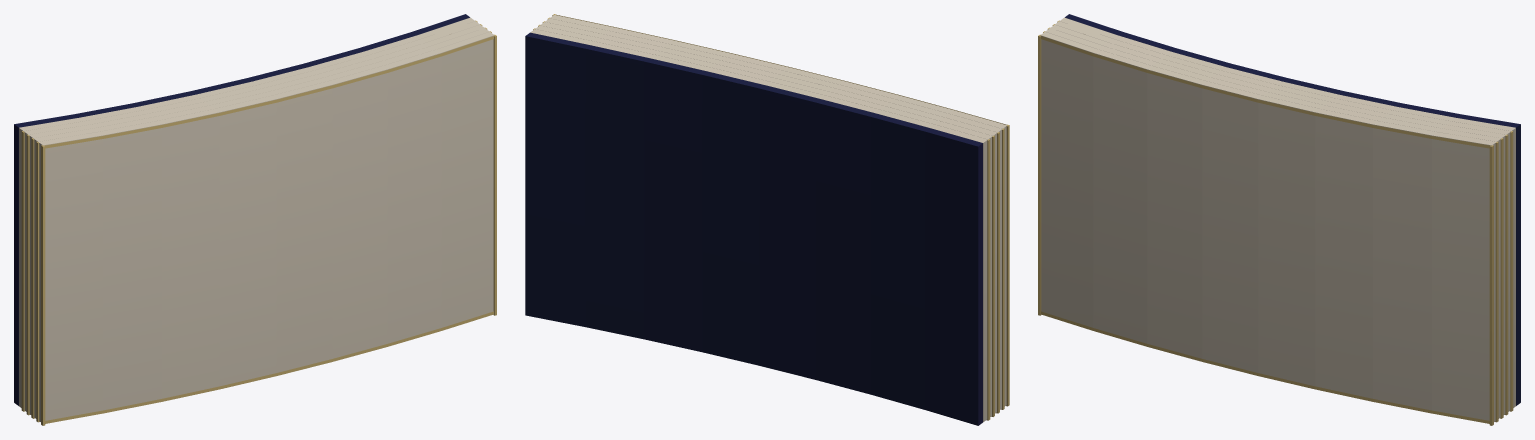
The model's file is page-wall.glb.
3 views of the same model, side by side, from view 1: azimuth 30°, elevation 25°; view 2: azimuth 150°, elevation 25°; view 3: azimuth 330°, elevation 25° (orthographic).
Visible parts, largest first — view 1: lid_mesh; view 2: lid_mesh; view 3: lid_mesh.
Part boxes in pixels (<box>): lid_mesh: <box>14,14,496,425</box>; lid_mesh: <box>525,14,1009,425</box>; lid_mesh: <box>1038,14,1520,425</box>.
Size of the model in its own units: 8.5 by 5 by 1.21.
